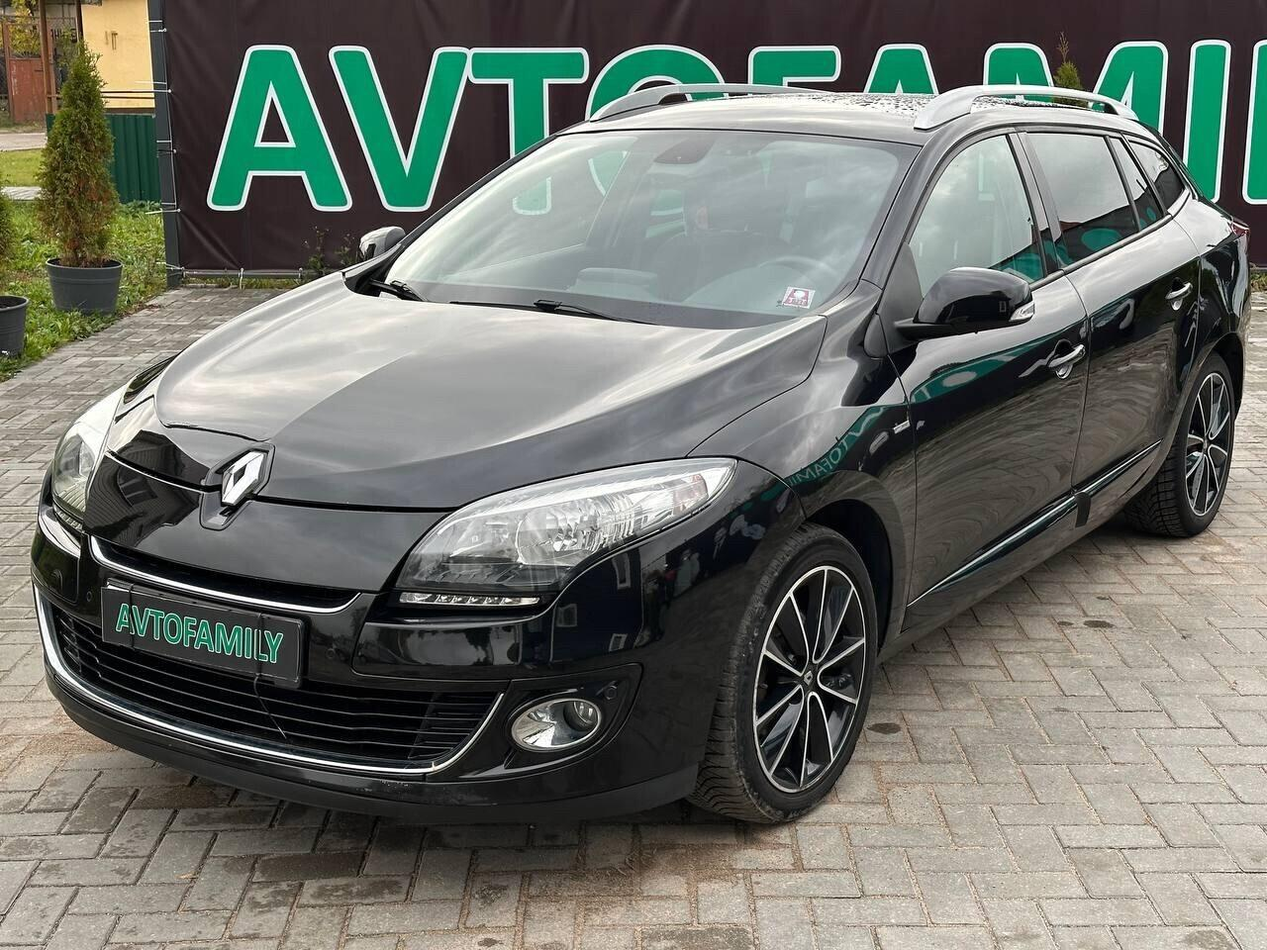Megane_2012-2014: (22, 83, 1242, 832)
